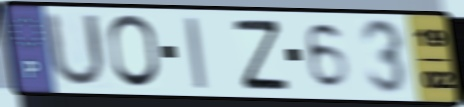3: (359, 15, 411, 101)
6: (303, 21, 353, 92)
I: (181, 14, 210, 91)
O: (106, 12, 164, 91)
U: (41, 9, 109, 91)
Z: (230, 18, 292, 92)
